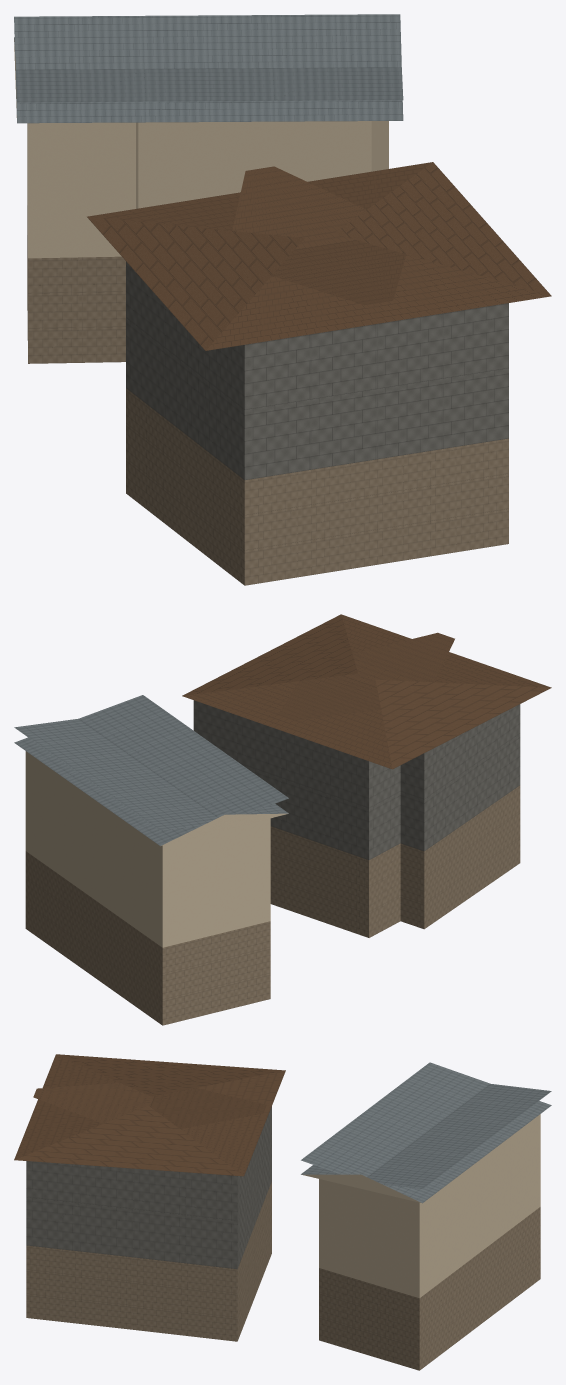
The model's file is bld_c32_-40_447.gltf.
The picture shows the model from 3 angles, top to bottom: view 1: azimuth 30°, elevation 25°; view 2: azimuth 150°, elevation 25°; view 3: azimuth 270°, elevation 25°; orthographic projection. The views are drawn at different scales.
Visible parts, largest first — view 1: bld_c32_-40_447; view 2: bld_c32_-40_447; view 3: bld_c32_-40_447.
Boxes of the visible parts, x1,y1,x2,y2 form: bld_c32_-40_447: (14,14,551,585); bld_c32_-40_447: (14,614,551,1025); bld_c32_-40_447: (14,1054,551,1370).
Size of the model in its own units: 23.36 by 13.3 by 34.31.
6 materials, 6 textured.
